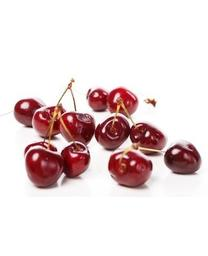cherry: (24, 146, 65, 188), (108, 151, 154, 187), (60, 110, 96, 146), (164, 140, 201, 174), (59, 141, 91, 179), (94, 116, 129, 150), (130, 123, 165, 154), (32, 104, 63, 138), (108, 89, 138, 114), (14, 98, 41, 123), (88, 87, 109, 110)
